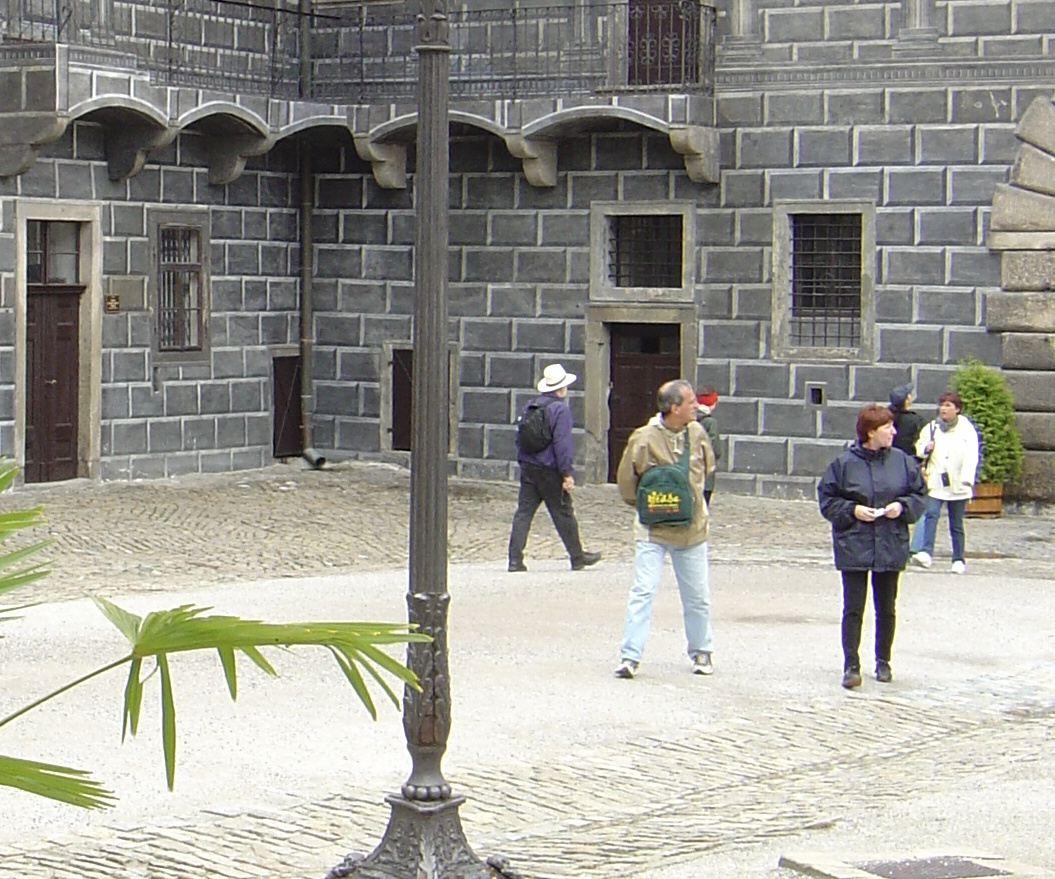person: (617, 381, 717, 681), (829, 399, 918, 688), (503, 359, 593, 570), (913, 388, 982, 575)
